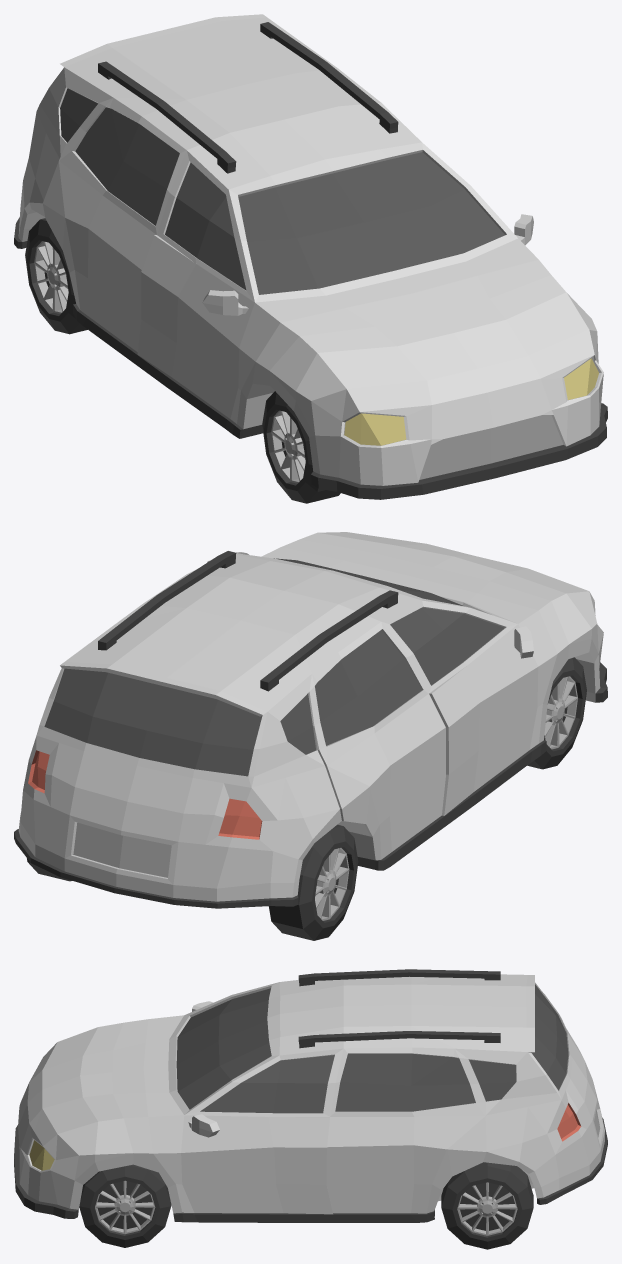
The model's file is SUV.fbx.
3 views of the same model, one above another, from view 1: azimuth 30°, elevation 25°; view 2: azimuth 150°, elevation 25°; view 3: azimuth 270°, elevation 25° (orthographic). The views are drawn at different scales.
Visible parts, largest first — view 1: Body, Wheels_Front, Wheels_Rear; view 2: Body, Wheels_Rear, Wheels_Front; view 3: Body, Wheels_Rear, Wheels_Front.
Part boxes in pixels (x1,y1,x2,y2): Body: (14, 14, 607, 499); Wheels_Front: (262, 391, 340, 503); Wheels_Rear: (25, 218, 87, 334); Body: (14, 532, 607, 908); Wheels_Rear: (27, 824, 358, 940); Wheels_Front: (527, 657, 586, 769); Body: (14, 969, 607, 1222); Wheels_Rear: (441, 1162, 533, 1249); Wheels_Front: (79, 1164, 171, 1247).
Bounding box in the file's own units: 2.11 × 1.53 × 4.21.
